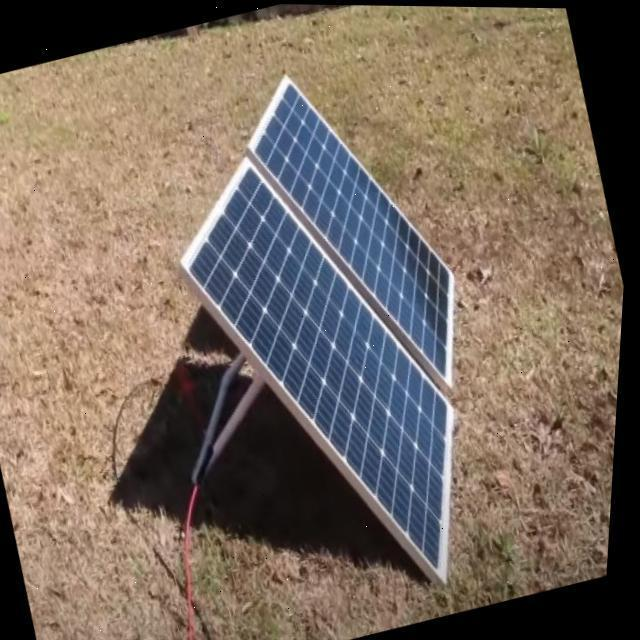Normal Solar Panel: (127, 41, 544, 630)
